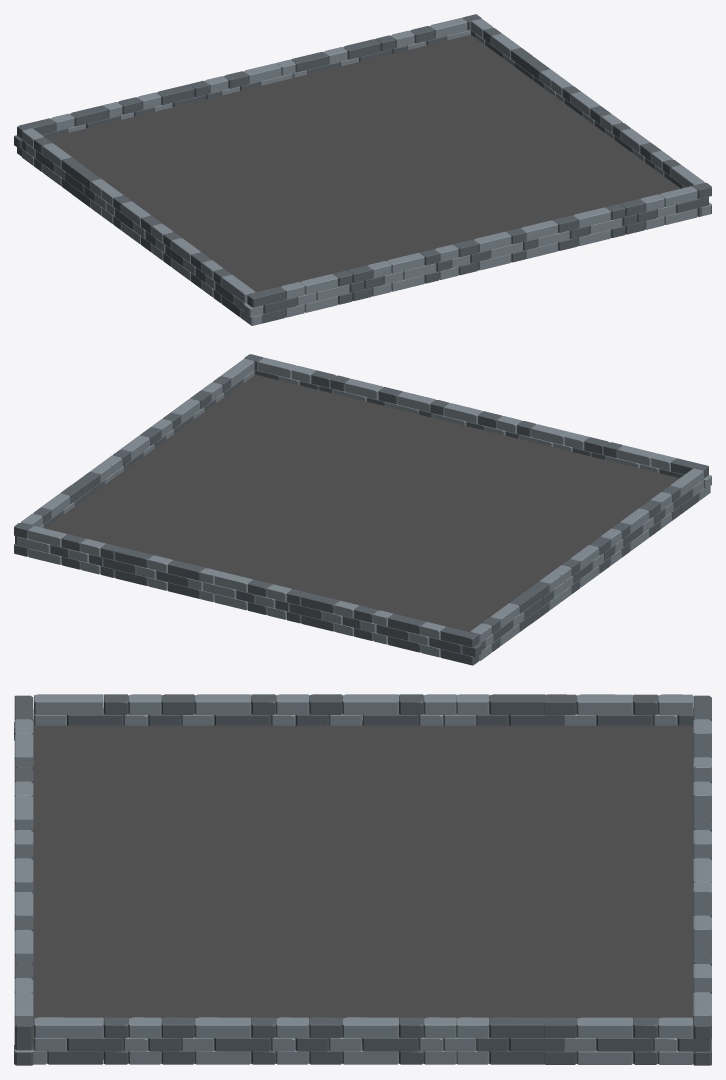
The model's file is L4Ground.fbx.
The picture shows the model from 3 angles, top to bottom: view 1: azimuth 30°, elevation 25°; view 2: azimuth 150°, elevation 25°; view 3: azimuth 270°, elevation 25°; orthographic projection. The views are drawn at different scales.
Visible parts, largest first — view 1: pasted__polySurface2957, polySurface1464; view 2: pasted__polySurface2957, polySurface1464; view 3: pasted__polySurface2957, polySurface1464.
Boxes of the visible parts, <box> form: pasted__polySurface2957: <box>47,34,680,292</box>; polySurface1464: <box>14,14,711,325</box>; pasted__polySurface2957: <box>44,374,679,631</box>; polySurface1464: <box>14,354,711,665</box>; pasted__polySurface2957: <box>33,725,693,1059</box>; polySurface1464: <box>14,694,711,1065</box>.
Bounding box in the file's own units: 1733 × 99.05 × 1535.
